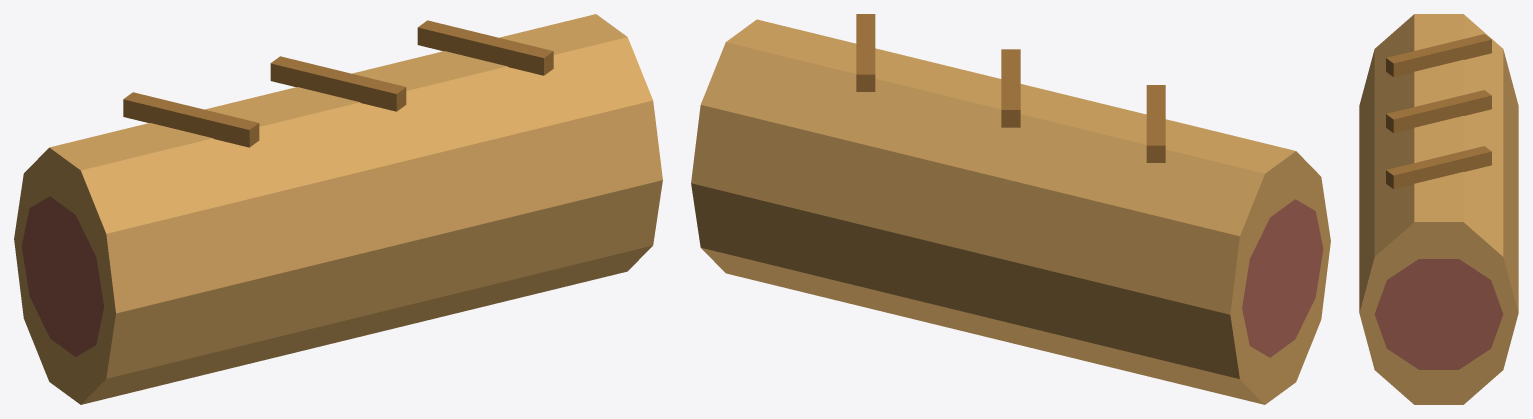
The model's file is sausage-roll.glb.
3 views of the same model, side by side, from view 1: azimuth 30°, elevation 25°; view 2: azimuth 150°, elevation 25°; view 3: azimuth 270°, elevation 25° (orthographic). The views are drawn at different scales.
Parts seen in each view (by area): view 1: sausage_roll; view 2: sausage_roll; view 3: sausage_roll.
Part boxes in pixels (x1,y1,x2,y2): sausage_roll: (14, 14, 662, 404); sausage_roll: (691, 14, 1330, 404); sausage_roll: (1359, 14, 1518, 404).
Size of the model in its own units: 0.131 by 0.0571 by 0.042.
